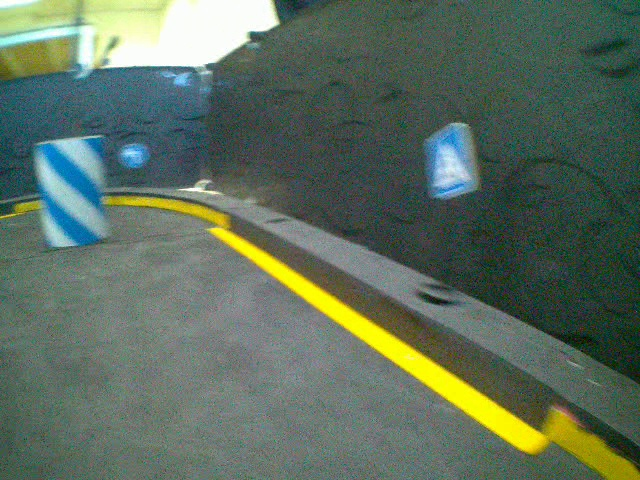bucket: (33, 132, 116, 248)
